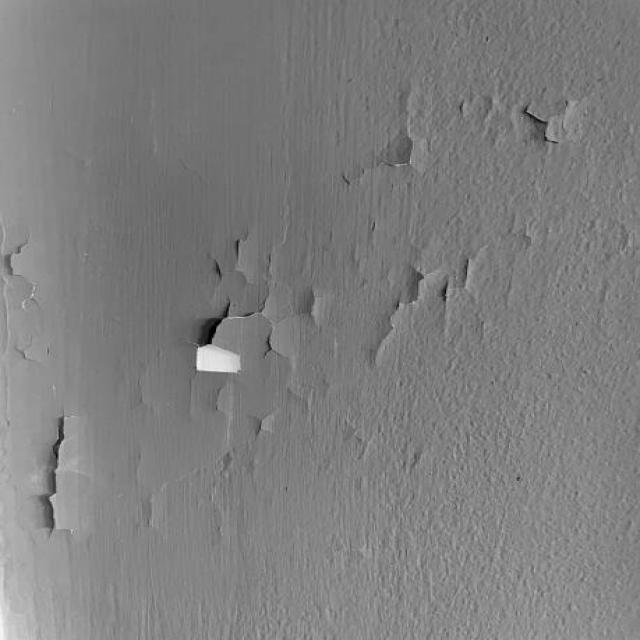peeling paint: (1, 67, 640, 567)
